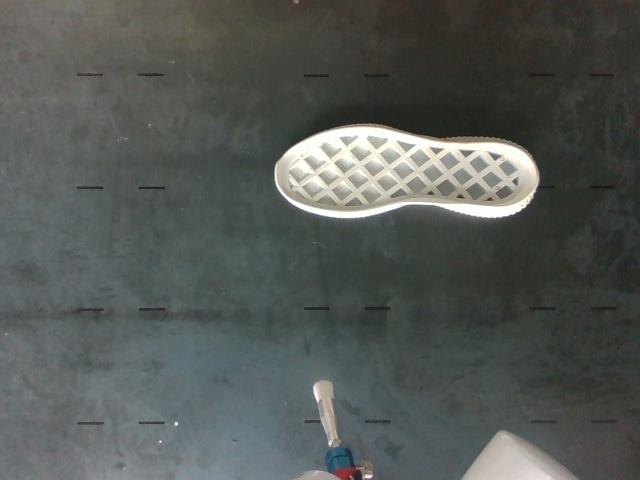shoes: (276, 128, 538, 211)
